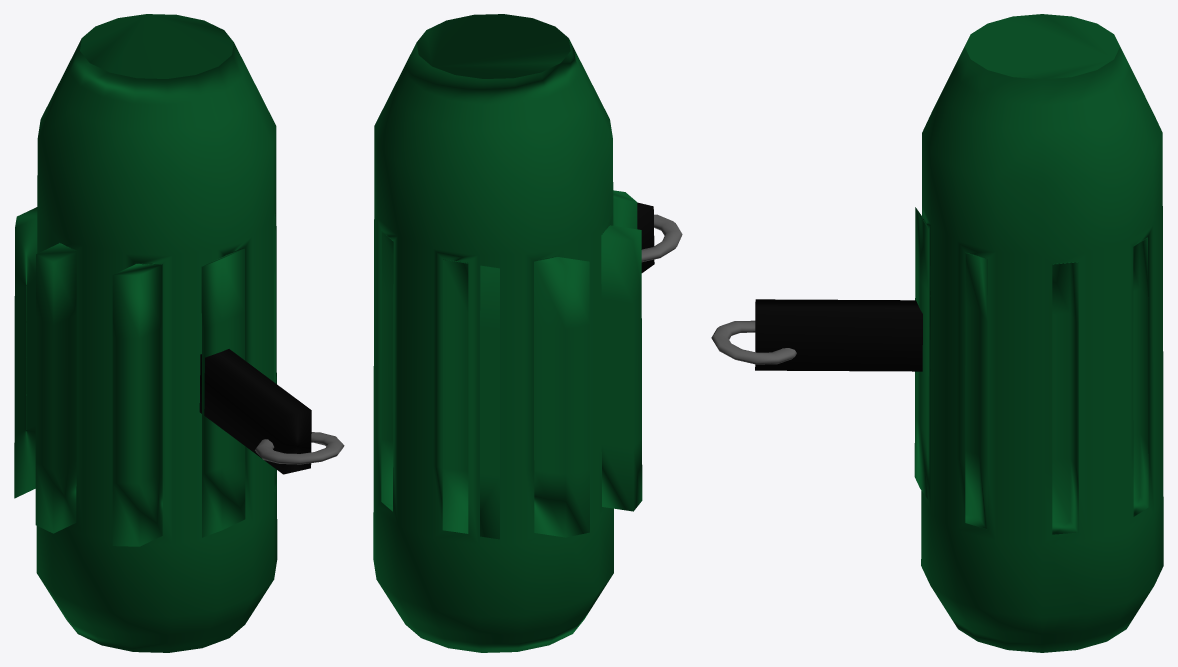
Rendered from grenadeNew.fbx.
The picture shows the model from 3 angles, left to right: view 1: azimuth 30°, elevation 25°; view 2: azimuth 150°, elevation 25°; view 3: azimuth 270°, elevation 25°; orthographic projection.
Visible parts, largest first — view 1: Cylinder.001; view 2: Cylinder.001; view 3: Cylinder.001.
Boxes of the visible parts, bbox=[...] form: Cylinder.001: bbox=[14, 14, 344, 652]; Cylinder.001: bbox=[373, 14, 682, 652]; Cylinder.001: bbox=[711, 14, 1163, 652].
Size of the model in its own units: 85.3 by 196 by 142.
